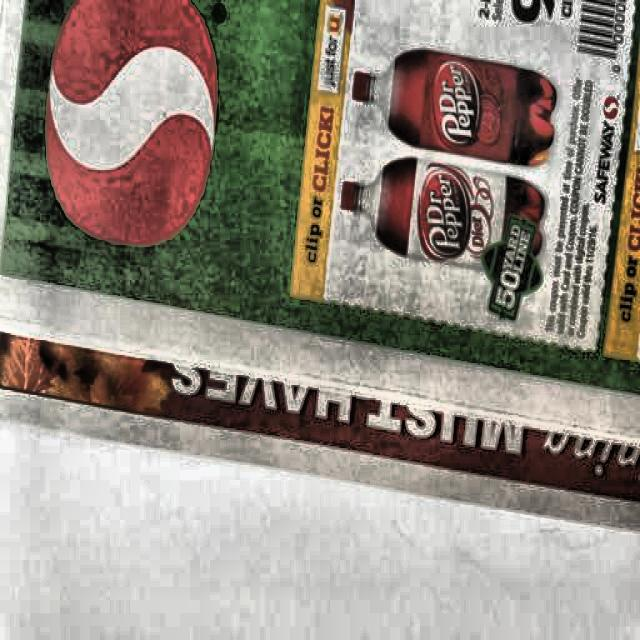paper: (12, 0, 640, 520)
